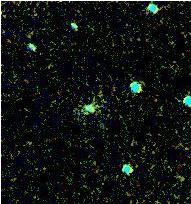star: (155, 29, 185, 59)
